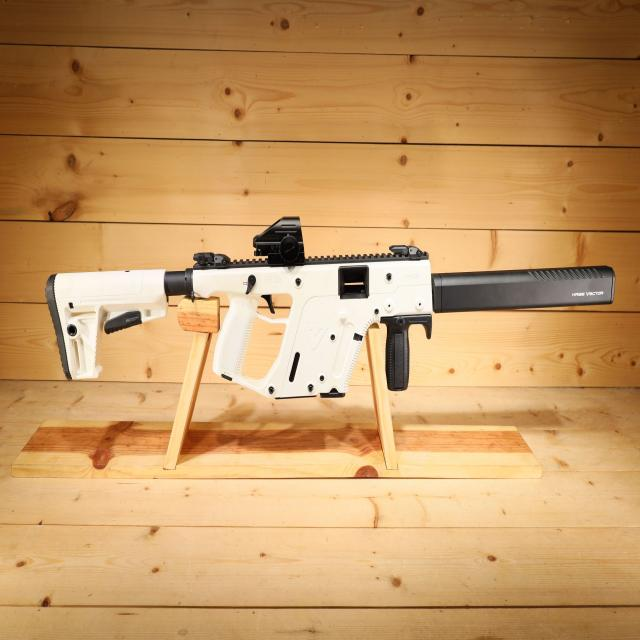SMG: (46, 217, 616, 400)
